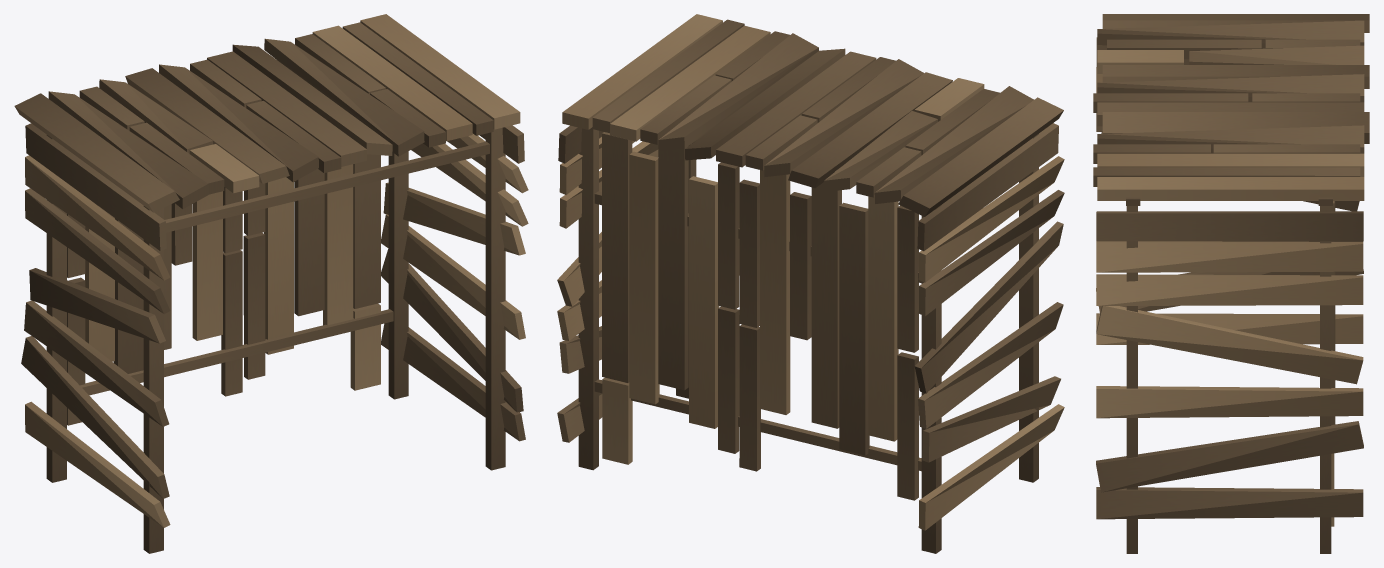
File: ZLP_Build_D_7.FBX
The picture shows the model from 3 angles, left to right: view 1: azimuth 30°, elevation 25°; view 2: azimuth 150°, elevation 25°; view 3: azimuth 270°, elevation 25°; orthographic projection.
Parts seen in each view (by area): view 1: ZLP_Build_D_7; view 2: ZLP_Build_D_7; view 3: ZLP_Build_D_7.
Part boxes in pixels (left/top/right/bottom): ZLP_Build_D_7: left=14, top=14, right=528, bottom=553; ZLP_Build_D_7: left=557, top=14, right=1064, bottom=553; ZLP_Build_D_7: left=1093, top=14, right=1369, bottom=553.
Size of the model in its own units: 275 by 259 by 175.
